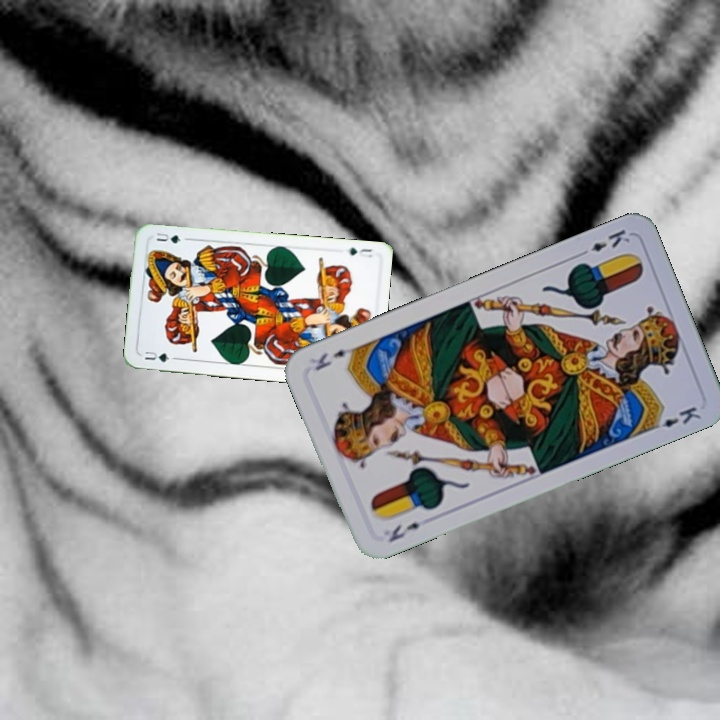EK: (574, 225, 633, 260), (384, 518, 423, 545)
GU: (141, 347, 172, 365), (345, 244, 375, 260)
